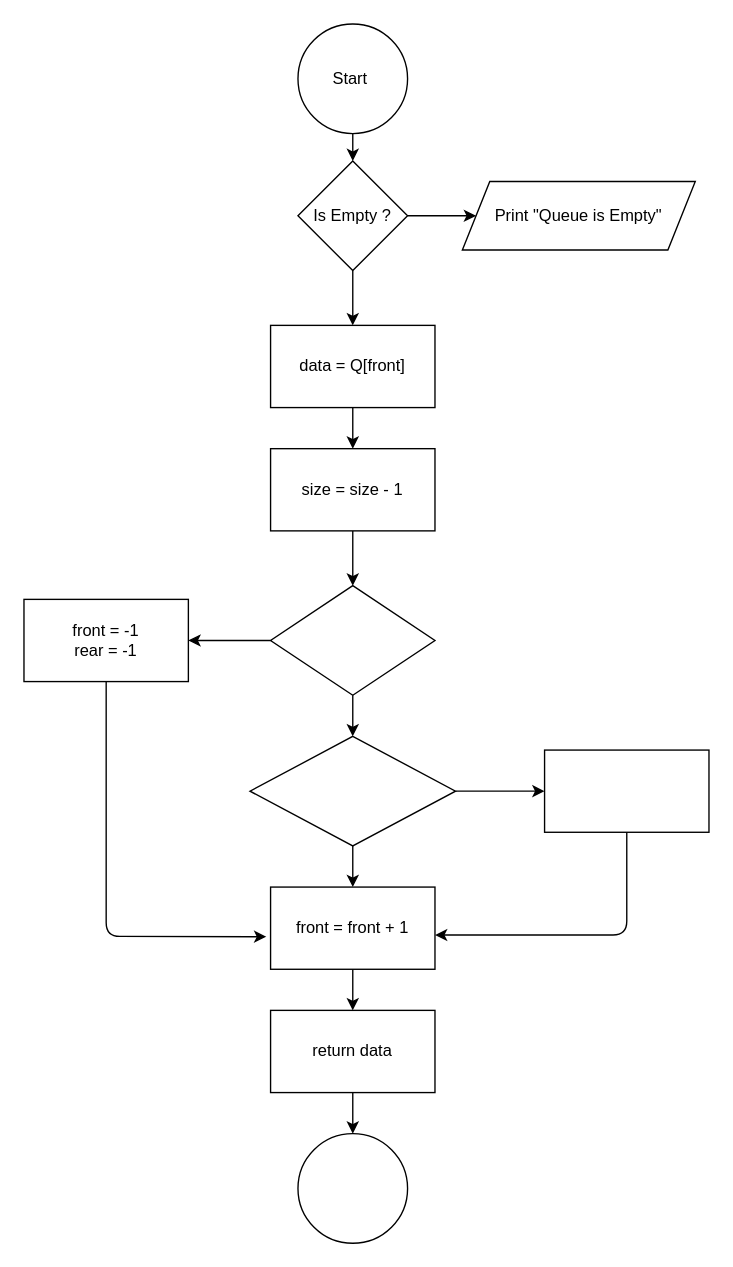
This 733x1267 diagram has some shape labels left out. The shapes that lost their labels are listed below. From the top down, each one's box as (x1, y1, x2, y2) in pixels, then its label:
(269, 584, 435, 695): size == 0 now ?
(249, 735, 456, 846): front == MAX - 1 ?
(543, 749, 709, 832): front = 0
(297, 1132, 408, 1243): End
